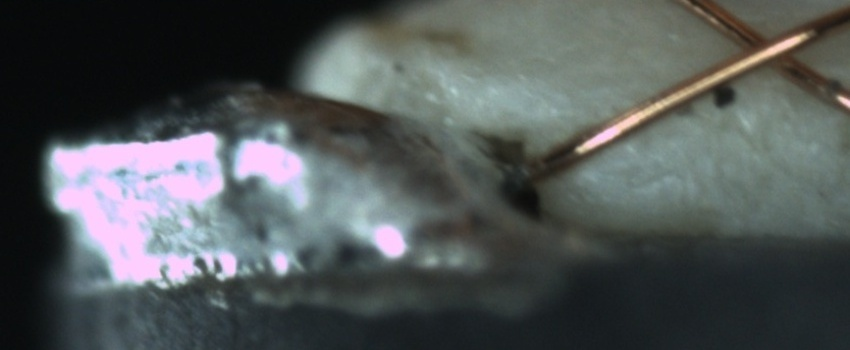CL: (717, 13, 822, 81)
